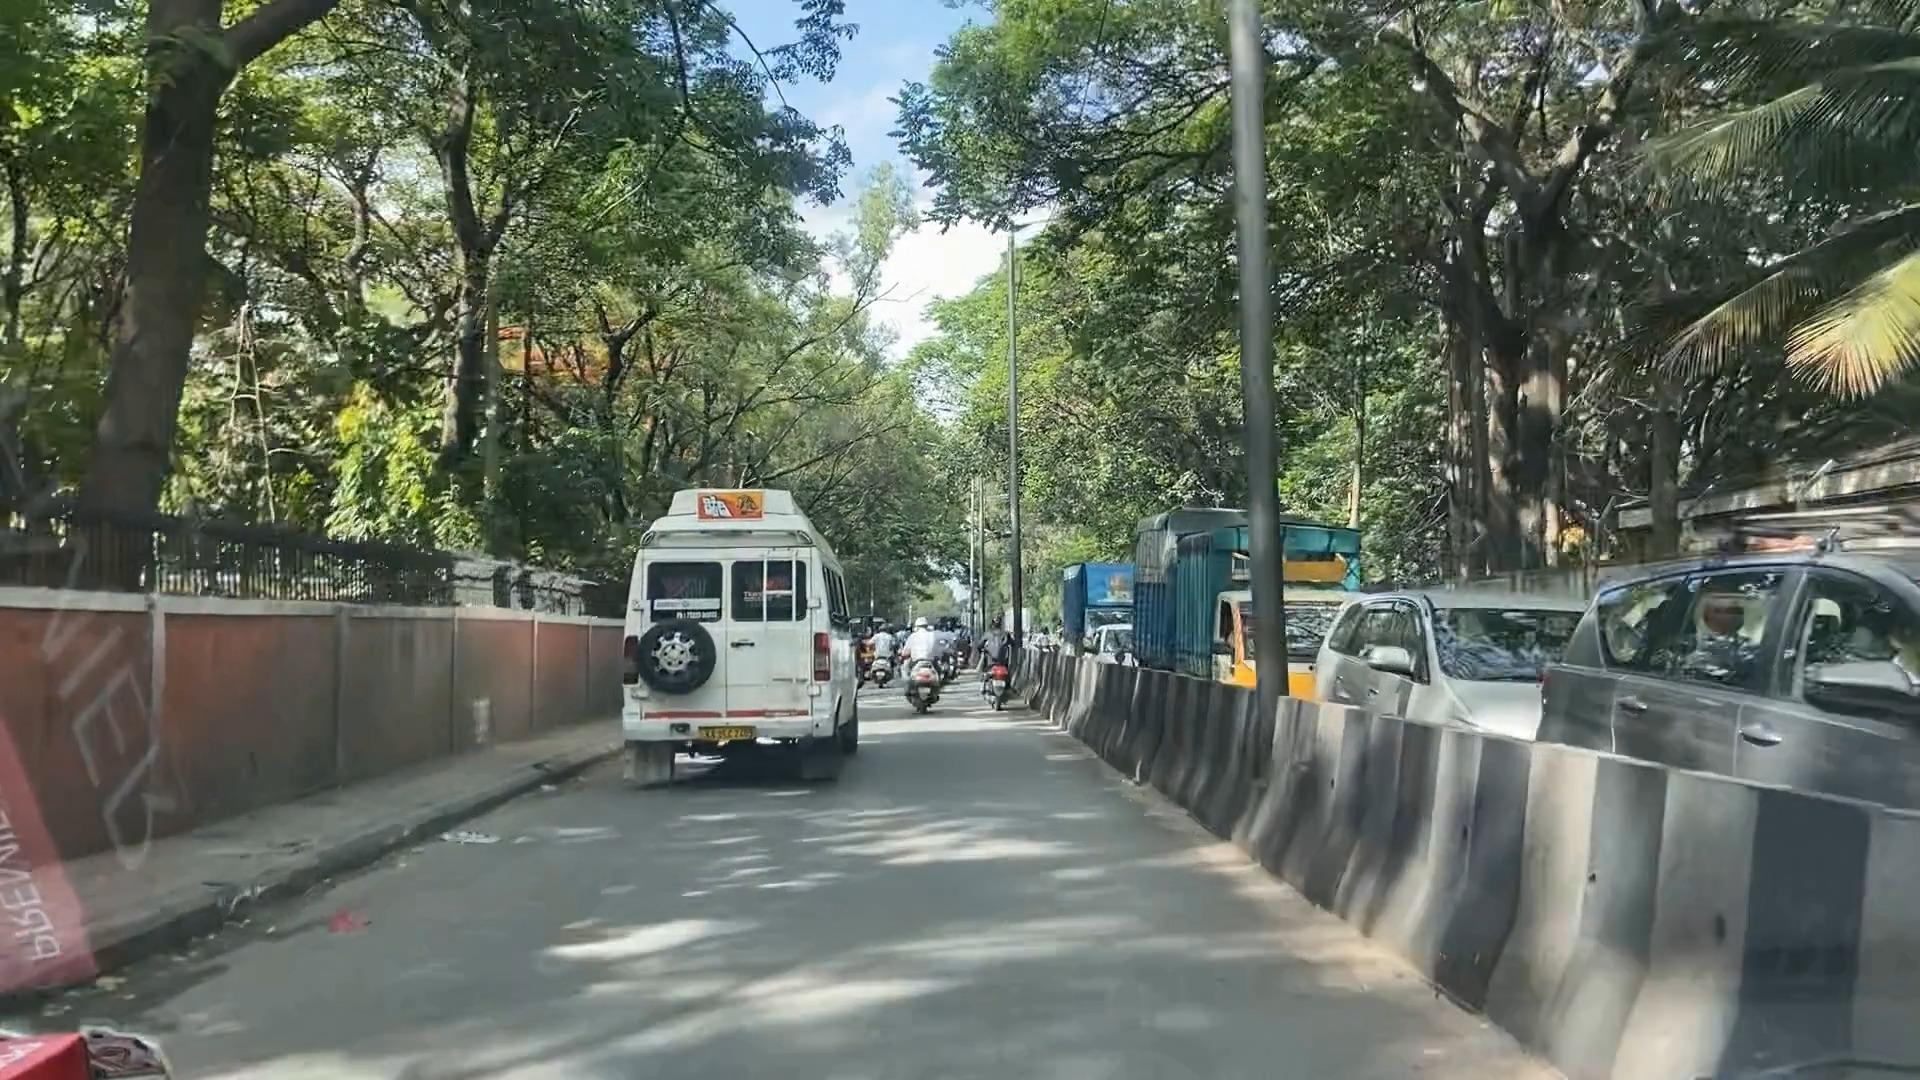HMV: (607, 476, 847, 775)
LMV: (968, 611, 1027, 720), (893, 607, 936, 719)
